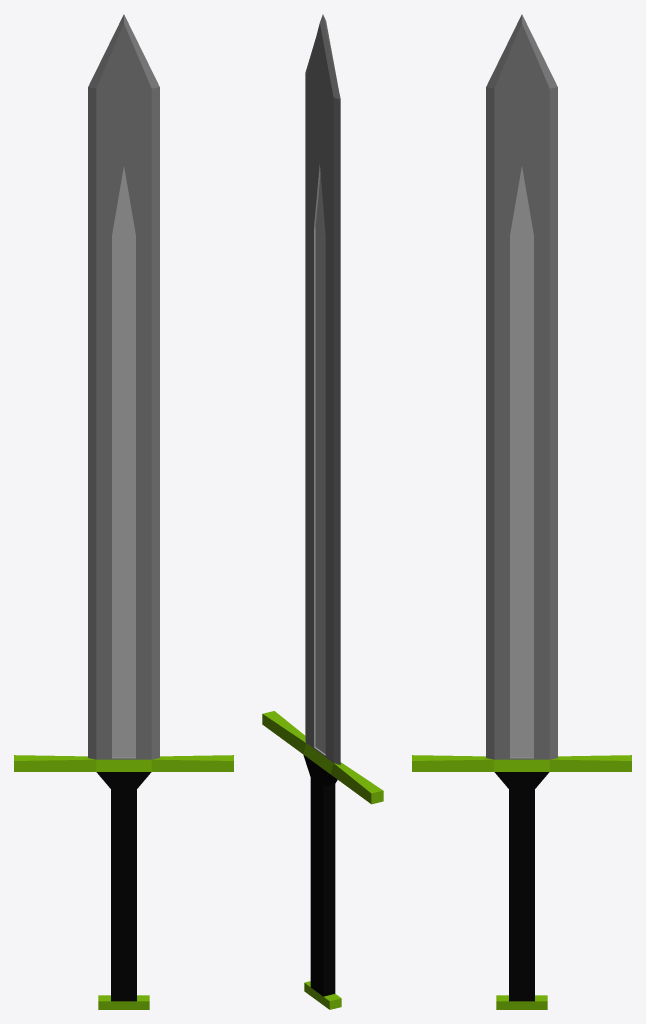
File: two_handed_sword.fbx
3 views of the same model, side by side, from view 1: azimuth 90°, elevation 25°; view 2: azimuth 210°, elevation 25°; view 3: azimuth 270°, elevation 25° (orthographic).
Parts seen in each view (by area): view 1: Cube; view 2: Cube; view 3: Cube.
Part boxes in pixels (left/top/right/bottom): Cube: left=14, top=14, right=233, bottom=1009; Cube: left=262, top=14, right=383, bottom=1009; Cube: left=412, top=14, right=631, bottom=1009.
Size of the model in its own units: 5.11 by 400 by 80.25.
